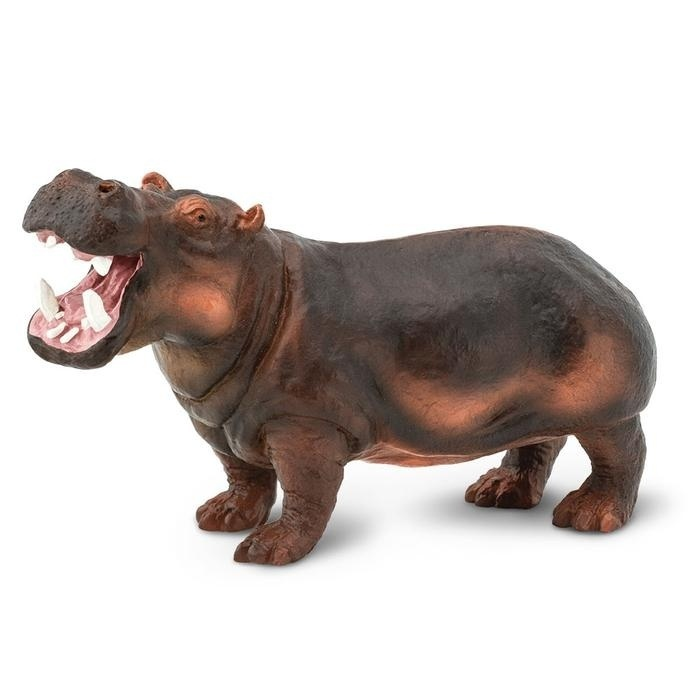hipopotamo: (7, 73, 674, 584)
